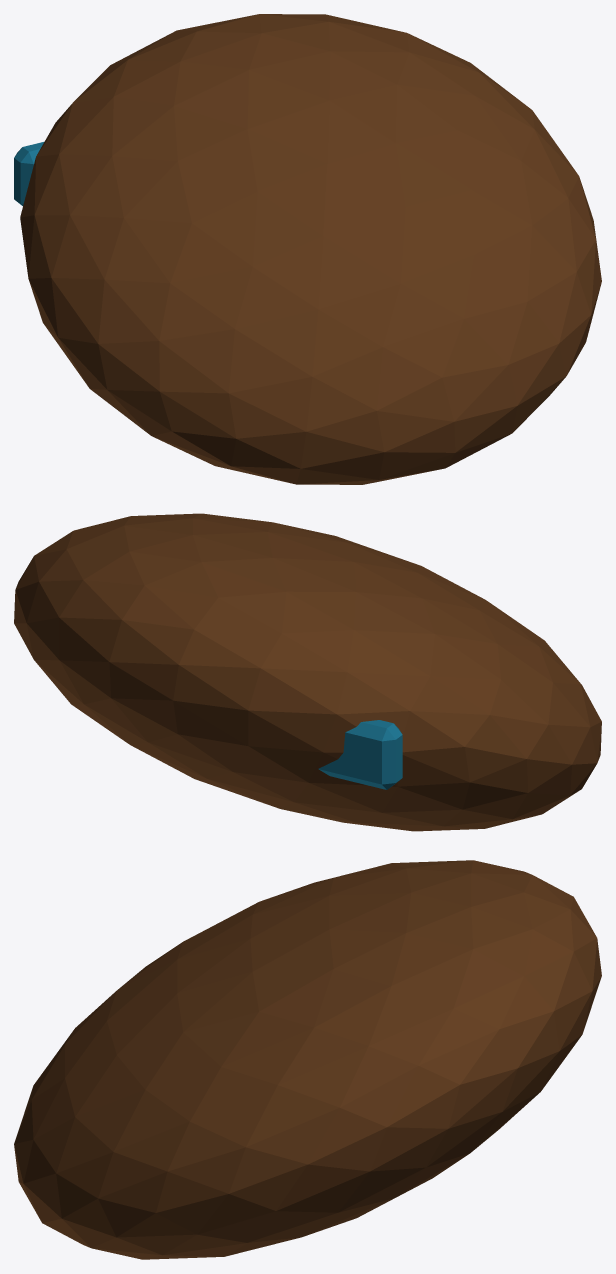
Rendered from Hat.glb.
3 views of the same model, one above another, from view 1: azimuth 30°, elevation 25°; view 2: azimuth 150°, elevation 25°; view 3: azimuth 270°, elevation 25° (orthographic). The views are drawn at different scales.
Visible parts, largest first — view 1: geometry_0; view 2: geometry_0; view 3: geometry_0.
Part boxes in pixels (<box>): geometry_0: <box>14,14,601,484</box>; geometry_0: <box>14,513,601,831</box>; geometry_0: <box>14,860,601,1259</box>.
Bounding box in the file's own units: 0.5373 × 0.3137 × 0.501.
